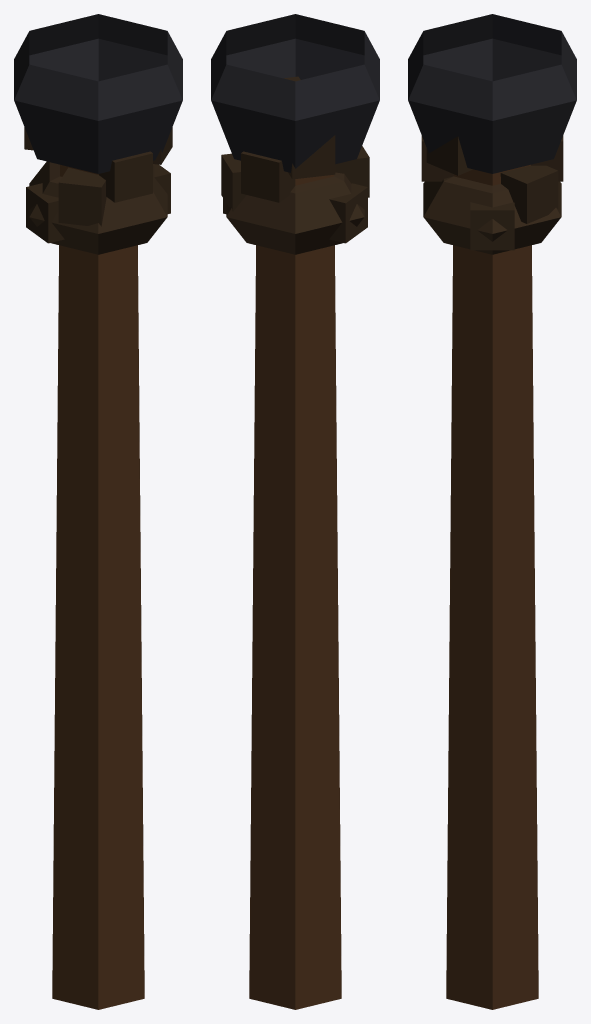
File: p_torch.glb
The picture shows the model from 3 angles, left to right: view 1: azimuth 30°, elevation 25°; view 2: azimuth 150°, elevation 25°; view 3: azimuth 270°, elevation 25°; orthographic projection.
Visible parts, largest first — view 1: p_torch; view 2: p_torch; view 3: p_torch.
Boxes of the visible parts, x1,y1,x2,y2 form: p_torch: [14, 14, 182, 1009]; p_torch: [211, 14, 379, 1009]; p_torch: [408, 14, 576, 1009].
Bounding box in the file's own units: 0.22 × 1.17 × 0.1905.
